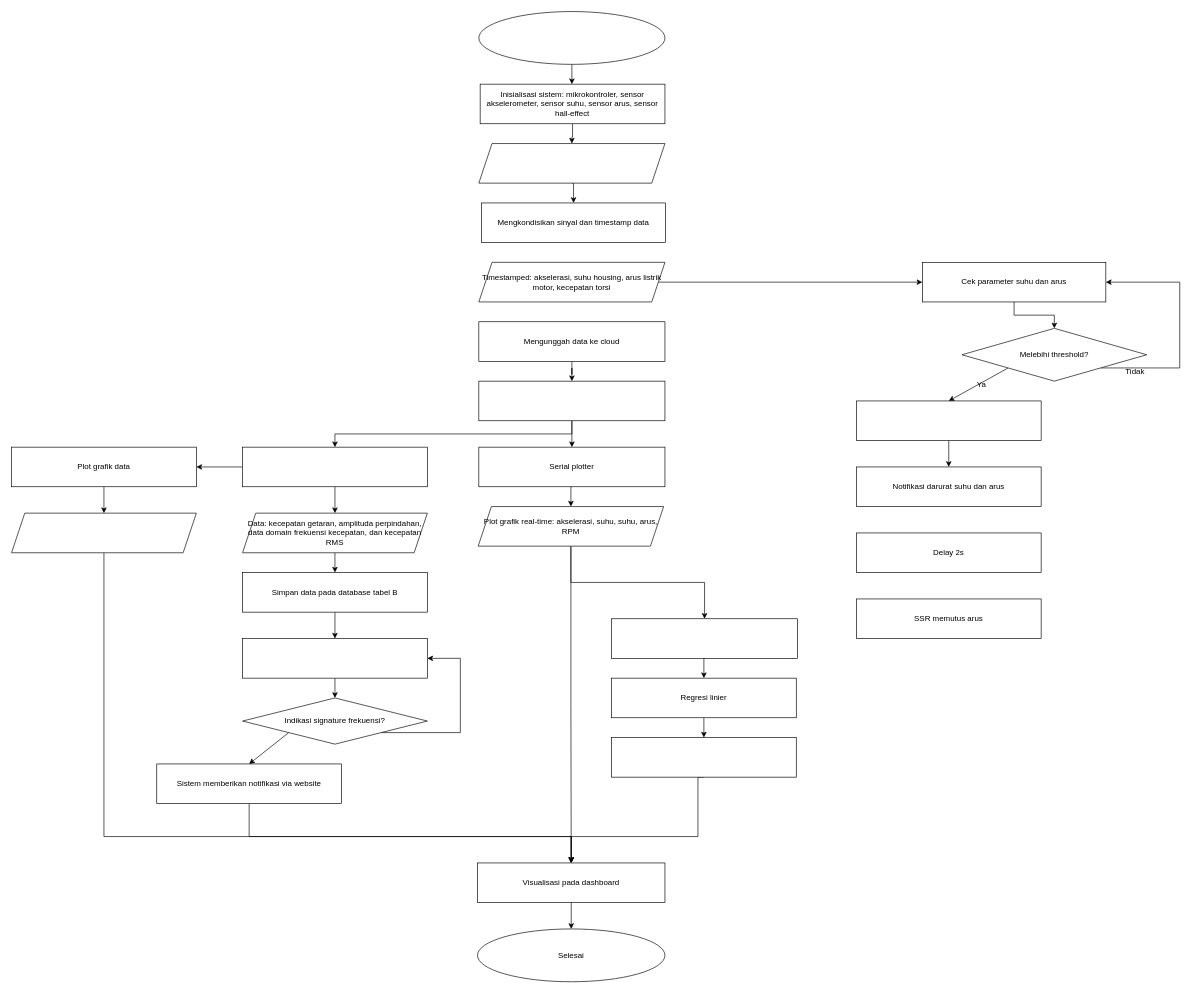
The diagram is 1197 pixels wide and 993 high, and some of its shapes have lost their labels. The shapes that lost their labels are listed below. From the top down, each one's centre as x and y in pixels, then its label:
At [571,37]: "Mulai".
At [571,163]: "Data; Akselerasi getaran, suhu housing, arus listrik motor, kecepatan torsi".
At [571,400]: "Menyimpan data pada database tabel A".
At [948,420]: "Delay 3 s".
At [334,466]: "Pemrosesan sinyal akselerasi getaran: konversi, FFT, RMS.".
At [103,532]: "Plot grafik: Kecepatan, Akselerasi, Kecepatan RMS, Perpindahan".
At [334,658]: "Komparasi ISO 20816, 13373".
At [704,638]: "Perhitungan MHI".
At [703,757]: "Prediksi sisa umur motor".
